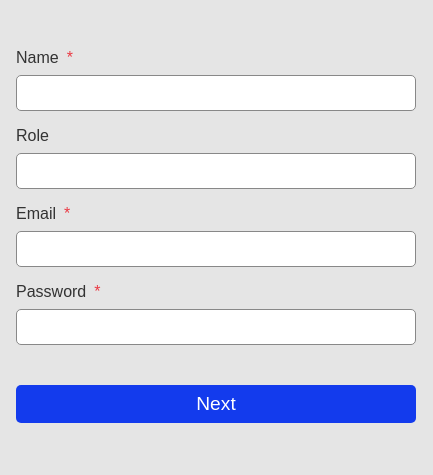
Test case: validation › validates Name field
The image size is (433, 475).
Click the button with test id "custom-btn".
click(216, 404)  # box x1=16 y1=385 x2=416 y2=423
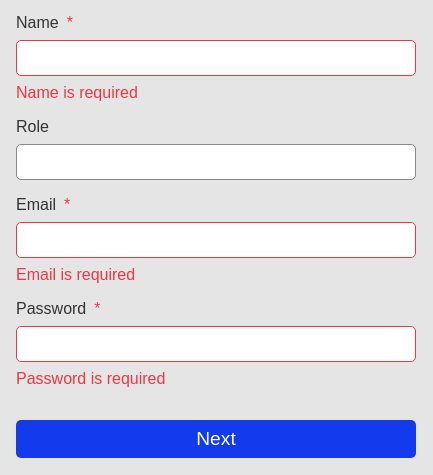
Check: the text "Name is required" is shown, box x1=16 y1=84 x2=138 y2=101
Type "Thomas Smith" into the field labelled "Name".
click(216, 58); type("Thomas Smith")  # box x1=16 y1=40 x2=416 y2=76
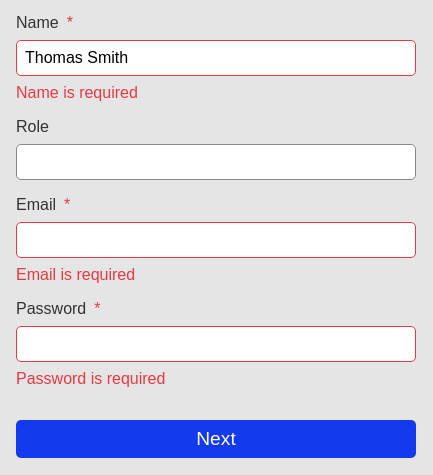
Click the button with test id "custom-btn".
click(216, 439)  # box x1=16 y1=420 x2=416 y2=458
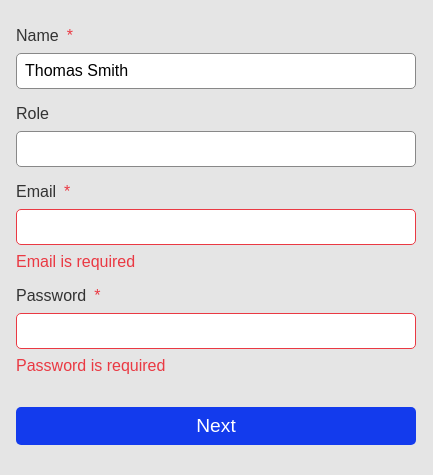
Check: the text "Name is required" is gone
